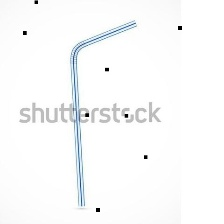drinking_straw: (64, 15, 142, 214)
